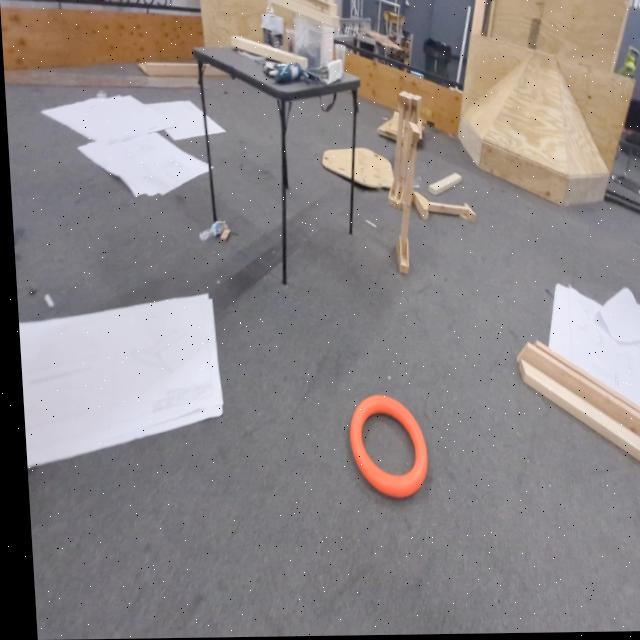note: (343, 399, 424, 501)
